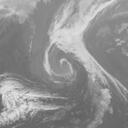cyclone: (42, 33, 99, 84)
